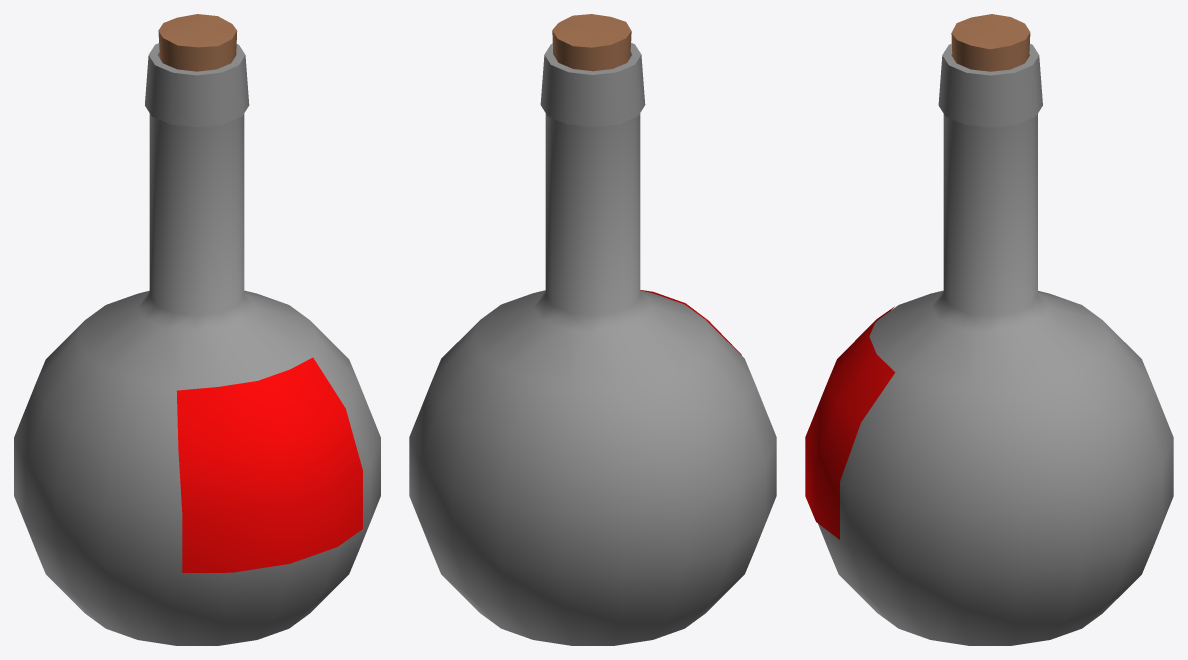
Rendered from Bottle04b.FBX.
3 views of the same model, side by side, from view 1: azimuth 30°, elevation 25°; view 2: azimuth 150°, elevation 25°; view 3: azimuth 270°, elevation 25° (orthographic).
Visible parts, largest first — view 1: Bottle04b; view 2: Bottle04b; view 3: Bottle04b.
Boxes of the visible parts, bbox=[...] form: Bottle04b: bbox=[14, 14, 380, 645]; Bottle04b: bbox=[409, 14, 776, 645]; Bottle04b: bbox=[805, 14, 1173, 645].
Size of the model in its own units: 4.58 by 7.92 by 4.67.
